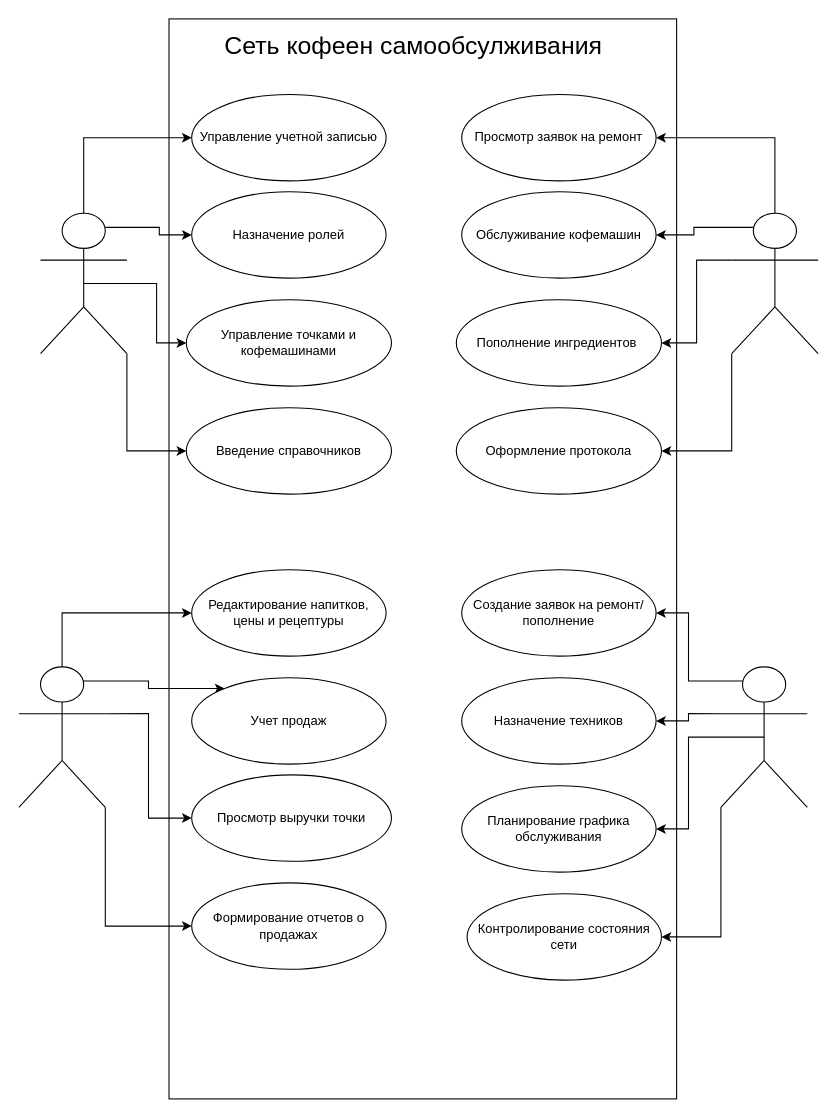
The diagram is 837 pixels wide and 1118 high, and some of its shapes have lost their labels. The box of each missing label's shape, as (x1, y1, x2, y2) in pixels:
Администратор: (39, 212, 127, 354)
Диспетчер: (720, 666, 807, 807)
Менеджер: (18, 666, 105, 807)
Техник: (731, 212, 818, 354)
